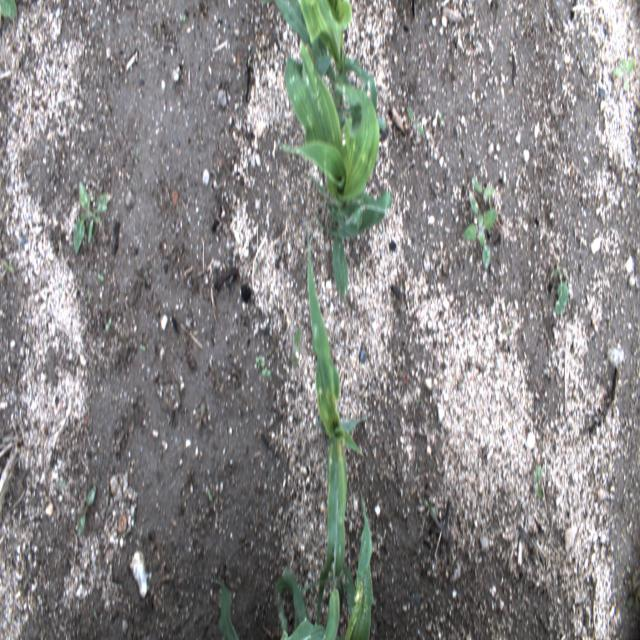crop: (262, 0, 393, 302), (305, 227, 368, 633), (214, 491, 373, 638)
weed: (462, 191, 500, 268), (73, 178, 108, 256), (611, 48, 637, 93), (78, 481, 98, 539), (552, 262, 572, 318), (470, 175, 496, 205), (625, 569, 640, 614), (290, 324, 302, 372), (408, 103, 424, 138), (0, 0, 20, 23), (532, 464, 544, 502), (194, 402, 209, 431), (254, 354, 272, 378), (424, 494, 437, 516), (2, 258, 15, 277), (438, 110, 447, 132), (316, 218, 325, 232), (206, 487, 213, 504), (105, 316, 112, 333), (179, 11, 187, 24), (143, 268, 153, 278), (246, 52, 252, 68), (96, 272, 105, 282), (234, 427, 240, 441), (139, 342, 146, 354), (93, 607, 98, 622), (505, 327, 513, 336), (244, 621, 250, 632), (415, 396, 421, 407), (41, 627, 46, 639), (425, 524, 431, 533), (414, 460, 418, 473)
